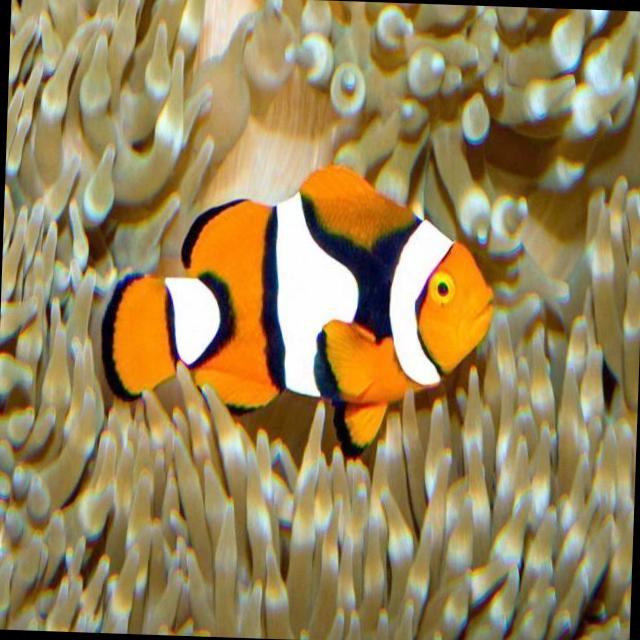ButterflyFish: (104, 160, 501, 455)
